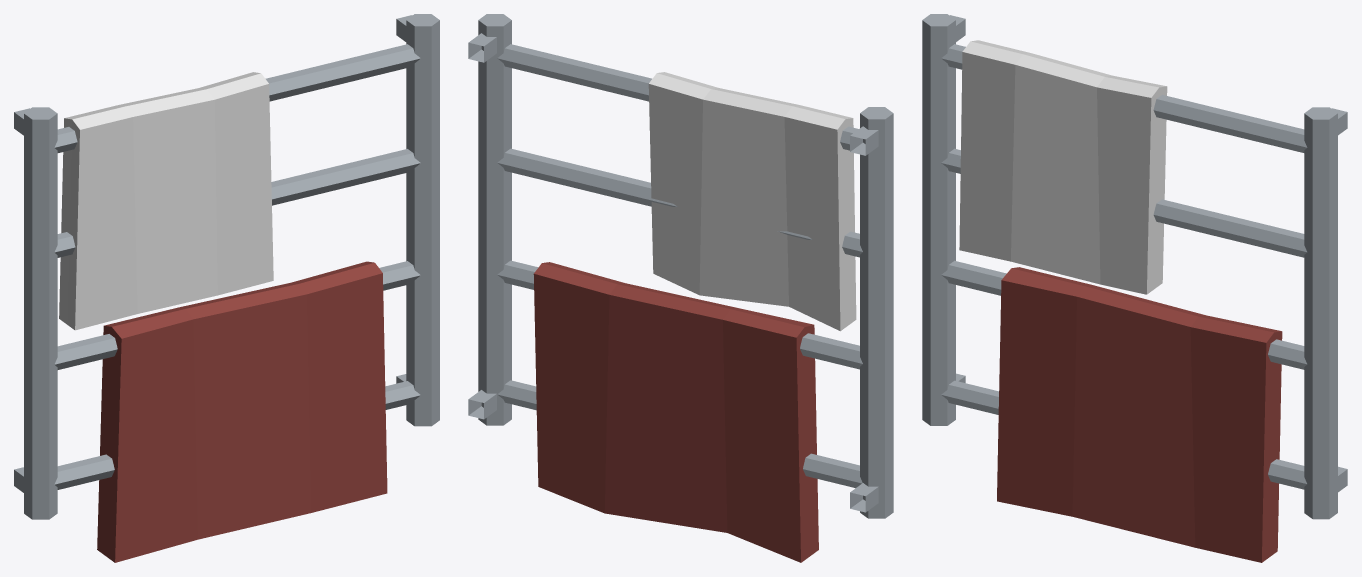
Rendered from SM_Prop_TowelRack_02.fbx.
3 renders of one model, left to right at view 1: azimuth 30°, elevation 25°; view 2: azimuth 150°, elevation 25°; view 3: azimuth 330°, elevation 25°, orthographic.
Visible parts, largest first — view 1: SM_Prop_TowelRack_02; view 2: SM_Prop_TowelRack_02; view 3: SM_Prop_TowelRack_02.
Part boxes in pixels (x1=…): SM_Prop_TowelRack_02: x1=14, y1=14, x2=439, y2=562; SM_Prop_TowelRack_02: x1=468, y1=14, x2=893, y2=562; SM_Prop_TowelRack_02: x1=922, y1=14, x2=1347, y2=562.
Size of the model in its own units: 102 by 110 by 13.57.
